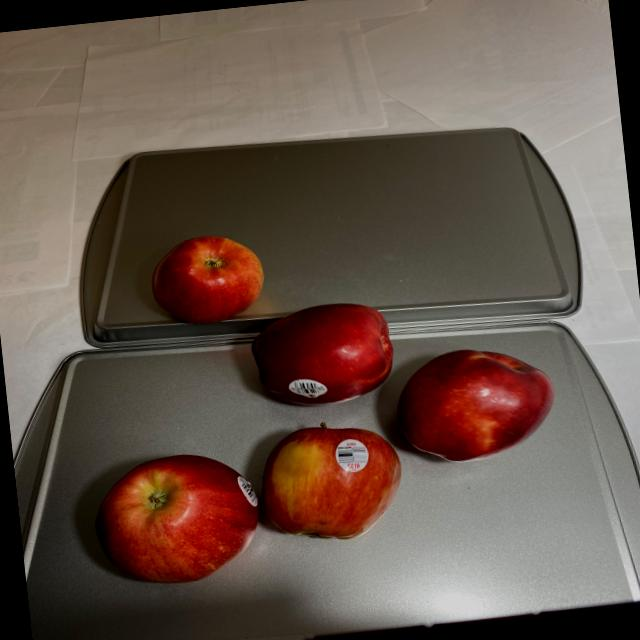apple: (70, 280, 570, 598), (139, 230, 268, 332)
